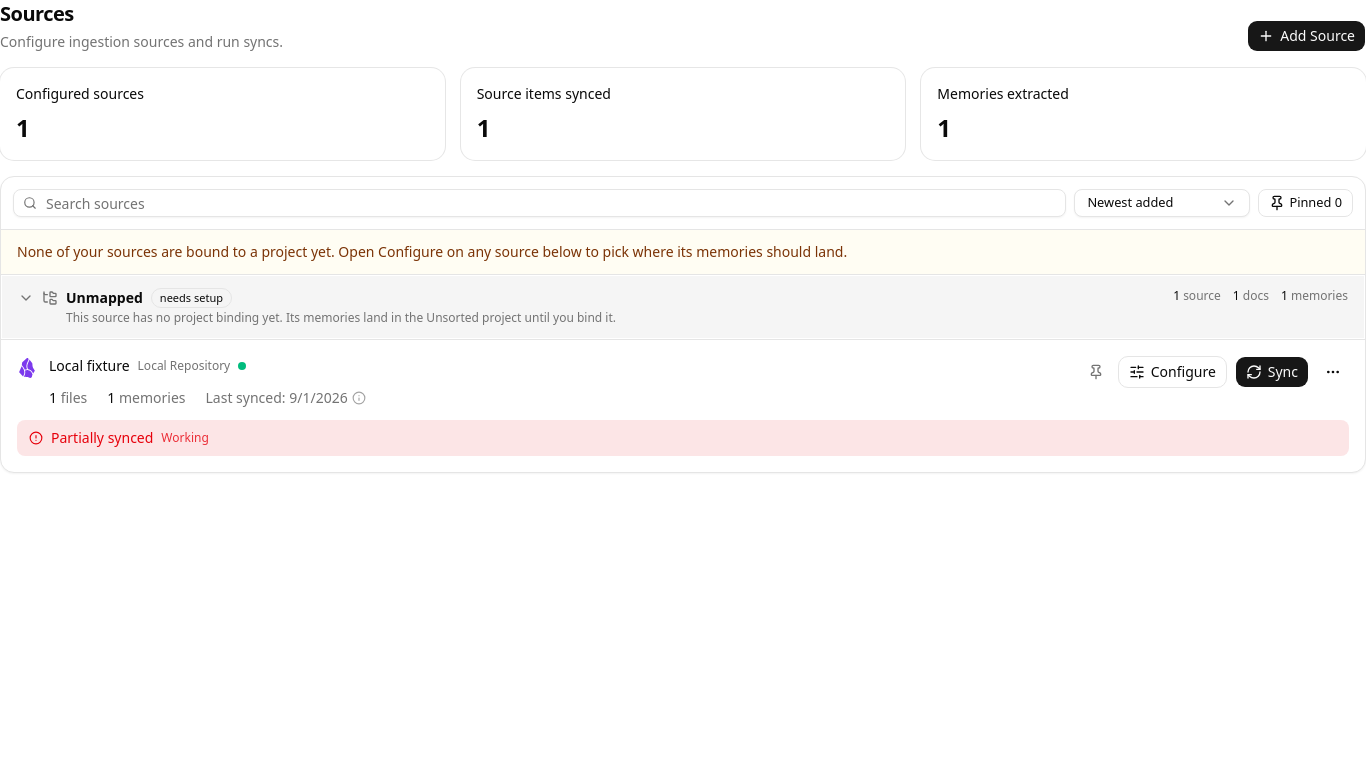
Test: the last sync details say how many items still fail and that Sync retries them
This screenshot has width=1366, height=768.
Click the button with aria-label "Show last sync details for Local fixture". click: coordinates (286, 398)
box: [206, 388, 366, 408]
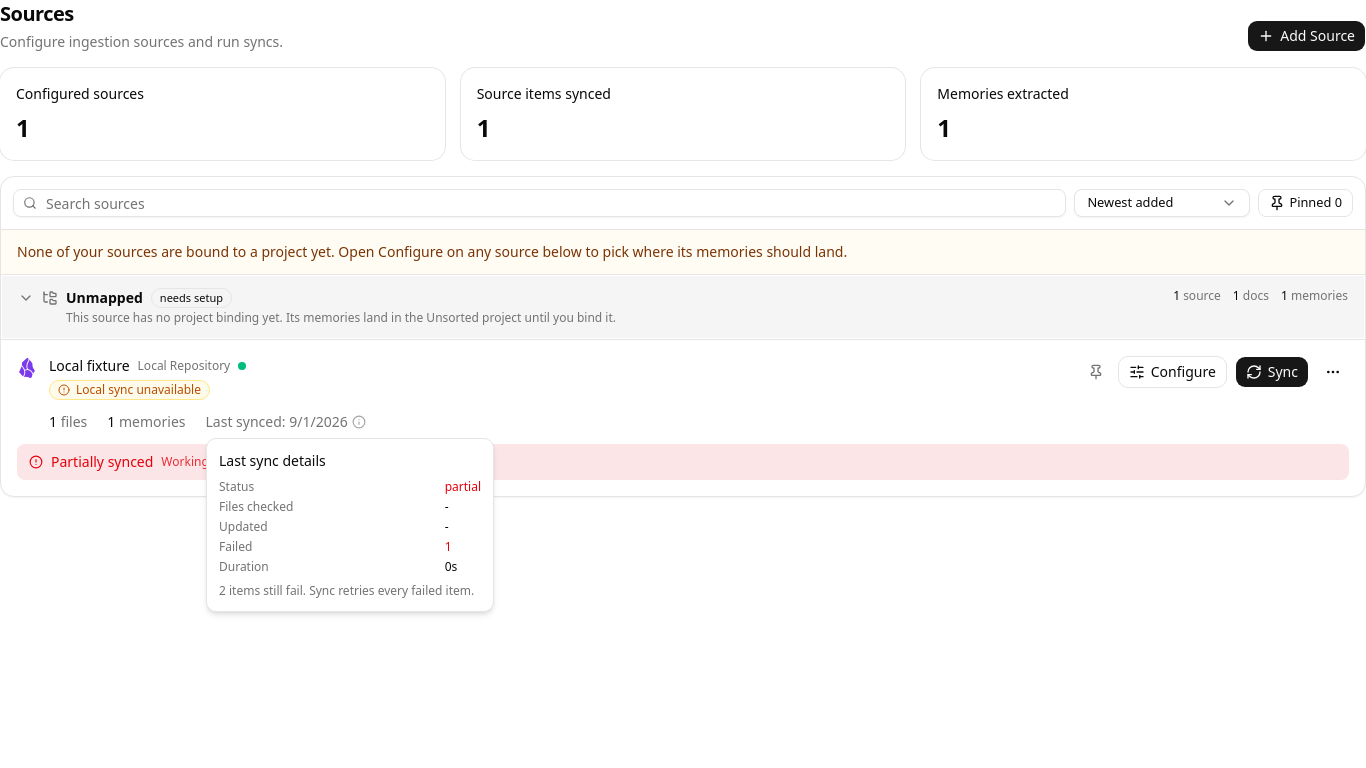
expect the text "2 items still fail. Sync retries every failed item." is shown: met, box [219, 583, 481, 599]
